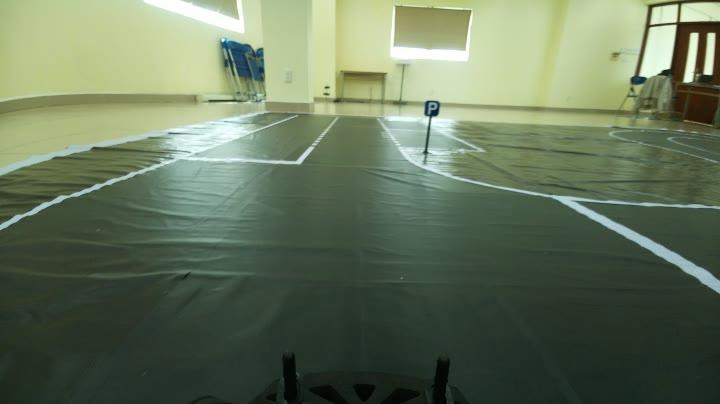parking: (421, 92, 445, 121)
